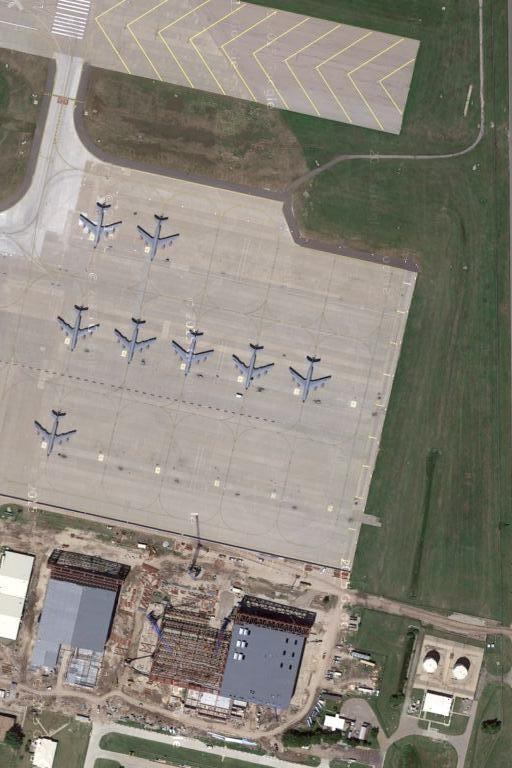KC-135: (30, 405, 81, 462), (53, 301, 103, 354), (230, 339, 277, 392), (112, 313, 158, 365), (169, 327, 218, 374), (134, 213, 180, 263), (286, 356, 335, 401), (76, 201, 123, 245)
